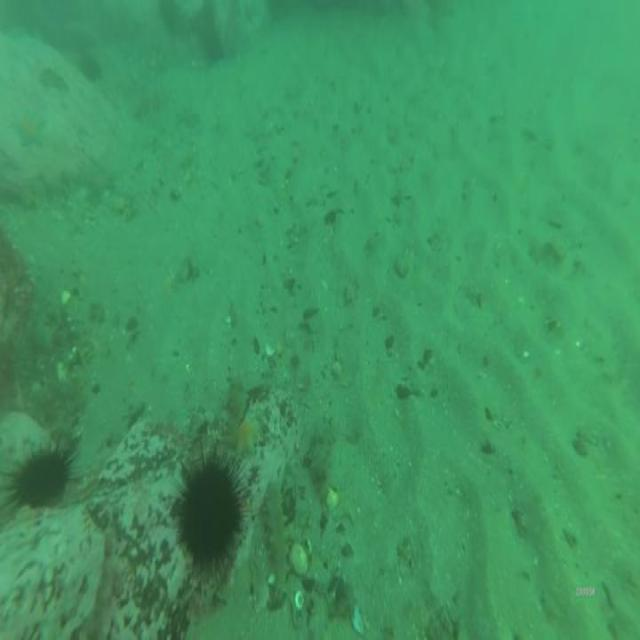echinus: (180, 463, 242, 563), (13, 448, 67, 506)
holothurian: (264, 485, 291, 604), (225, 371, 246, 446)
starfish: (14, 109, 46, 149), (234, 419, 258, 452)
